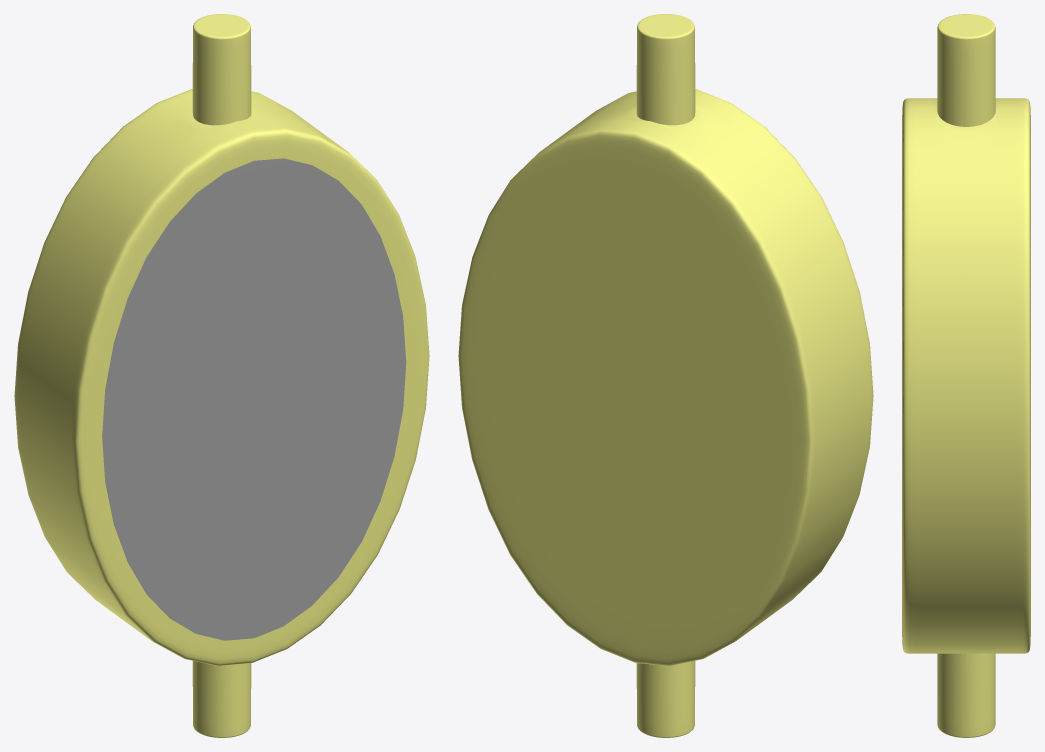
Rendered from Rotating Mirror.fbx.
3 renders of one model, left to right at view 1: azimuth 30°, elevation 25°; view 2: azimuth 150°, elevation 25°; view 3: azimuth 270°, elevation 25°, orthographic.
Parts seen in each view (by area): view 1: Mirror, Base_and_Frame; view 2: Base_and_Frame; view 3: Base_and_Frame.
Boxes of the visible parts, x1,y1,x2,y2 form: Mirror: (102,158,406,640); Base_and_Frame: (14,14,429,737); Base_and_Frame: (458,14,873,737); Base_and_Frame: (902,14,1030,737).
Bounding box in the file's own units: 6.36 × 12 × 2.
